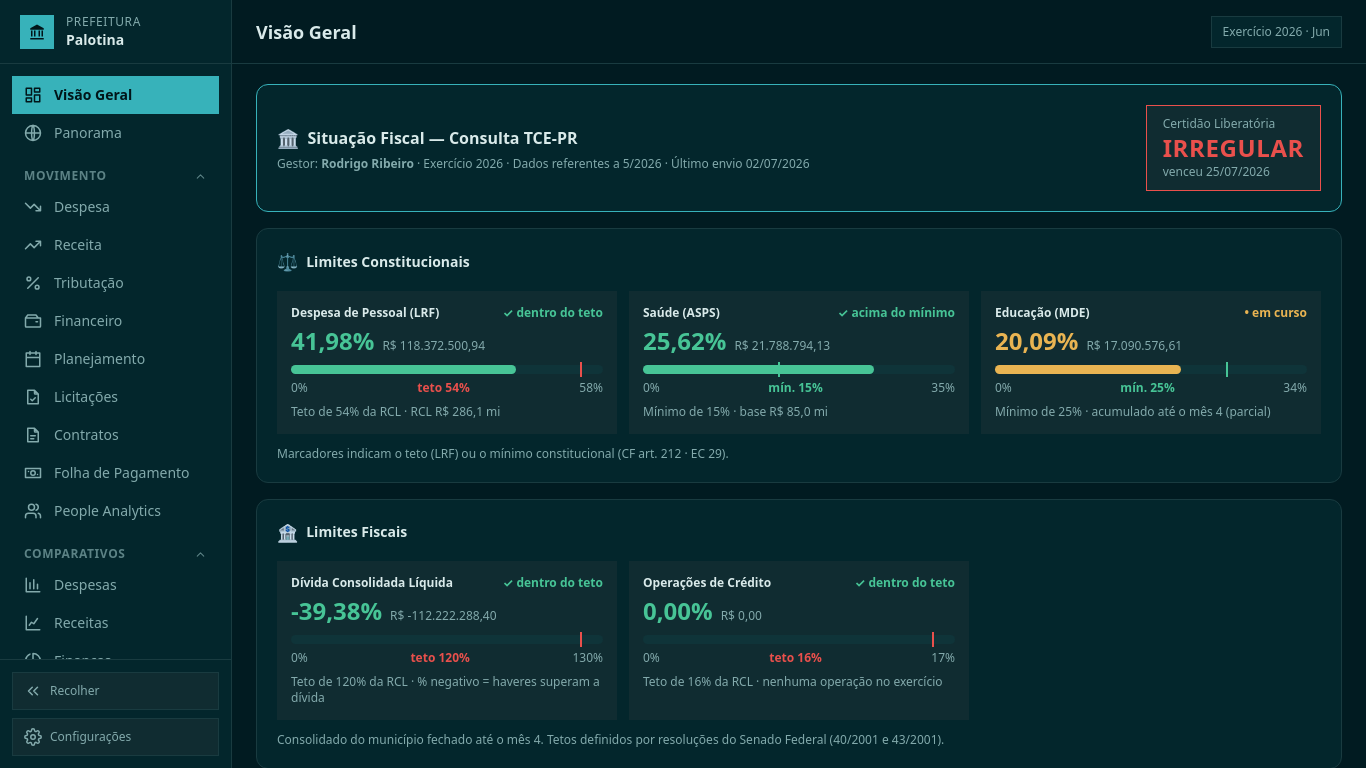
Extras · Análises e Alertas › não-admin: Extras aparece desativado
Click the button "Configurações".
click(116, 737)  # box [12,718,219,756]
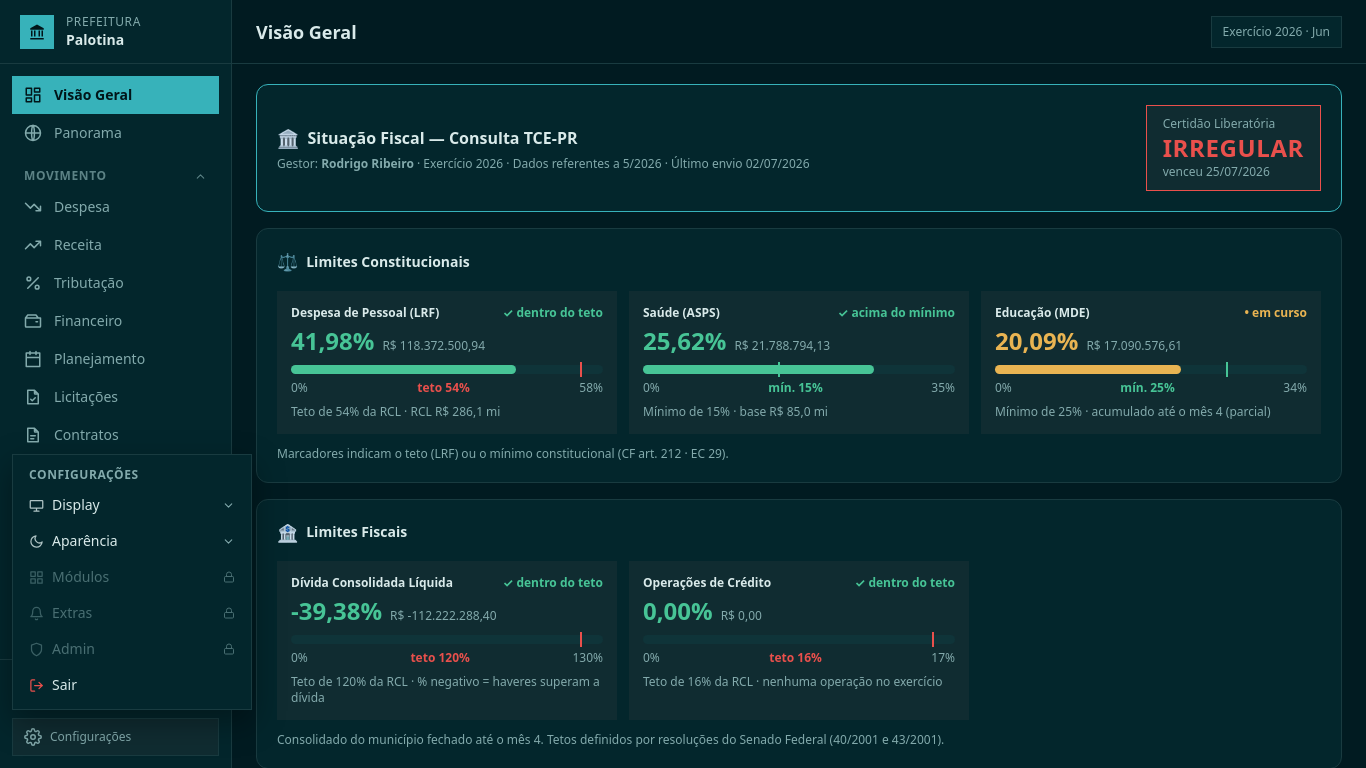
expect the button "Extras" is disabled: met, box [19,595,245,631]
